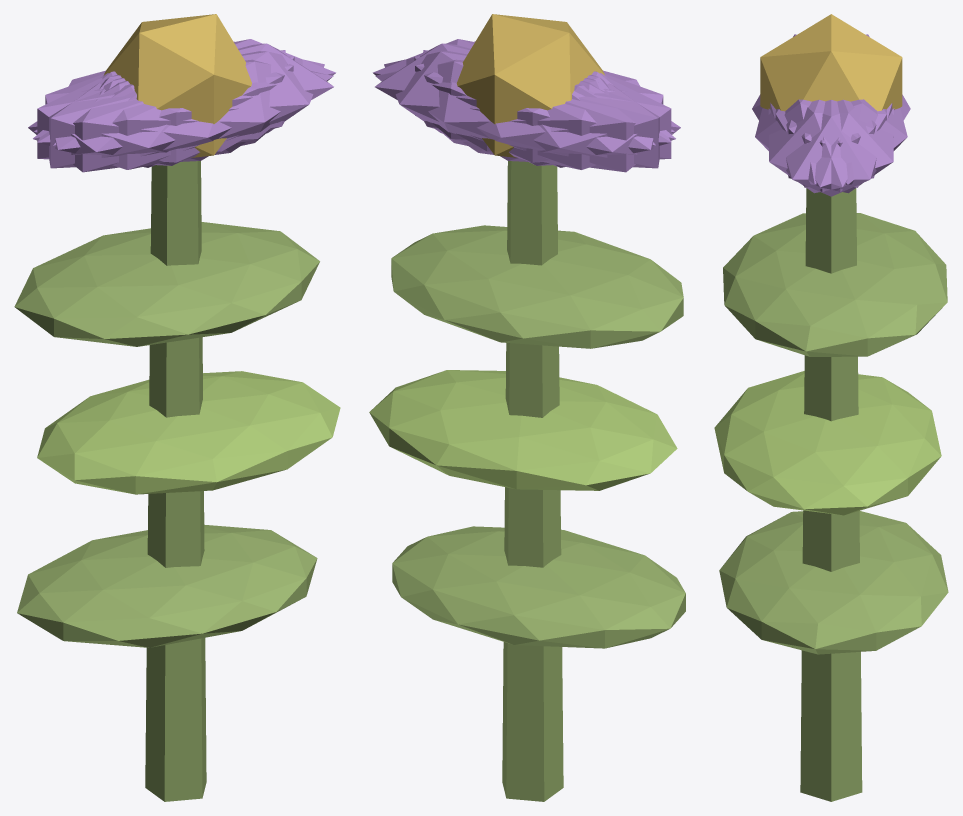
The model's file is dracaena-sanderiana.glb.
The picture shows the model from 3 angles, left to right: view 1: azimuth 30°, elevation 25°; view 2: azimuth 150°, elevation 25°; view 3: azimuth 270°, elevation 25°; orthographic projection.
Visible parts, largest first — view 1: leaf2, leaf1, leaf0, stem, center, petal1, petal6, petal2, petal5, petal7, petal0, petal4 (+2 smaller); view 2: leaf2, leaf0, leaf1, stem, center, petal8, petal3, petal7, petal4, petal2, petal0, petal5 (+2 smaller); view 3: leaf1, leaf2, leaf0, stem, center, petal0, petal4, petal5, petal8, petal1.
Part boxes in pixels (x1,y1,x2,y2): leaf2: [14, 222, 319, 346]; leaf1: [37, 371, 340, 494]; leaf0: [17, 524, 317, 647]; stem: [145, 161, 206, 801]; center: [103, 14, 251, 157]; petal1: [33, 59, 333, 169]; petal6: [28, 73, 245, 172]; petal2: [49, 50, 285, 168]; petal5: [53, 51, 324, 162]; petal7: [37, 56, 294, 165]; petal0: [103, 43, 333, 151]; petal4: [34, 39, 335, 142]; leaf2: [391, 225, 683, 348]; leaf0: [392, 526, 685, 648]; leaf1: [369, 370, 677, 490]; stem: [502, 161, 563, 801]; center: [456, 14, 604, 157]; petal8: [375, 59, 675, 169]; petal3: [463, 73, 680, 172]; petal7: [423, 50, 659, 168]; petal4: [384, 51, 655, 162]; petal2: [414, 56, 671, 165]; petal0: [375, 43, 605, 151]; petal5: [373, 39, 674, 142]; leaf1: [714, 371, 941, 515]; leaf2: [723, 213, 947, 356]; leaf0: [719, 511, 948, 654]; stem: [800, 188, 862, 801]; center: [760, 14, 902, 111]; petal0: [770, 99, 892, 196]; petal4: [775, 99, 894, 193]; petal5: [768, 99, 886, 193]; petal8: [786, 99, 907, 184]; petal1: [755, 99, 876, 184].
Bounding box in the file's own units: 0.1487 × 0.3589 × 0.1008.
